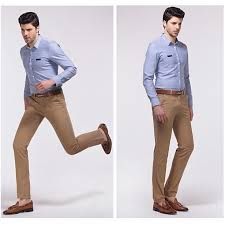F_belt: (23, 85, 70, 101), (147, 85, 193, 100)
